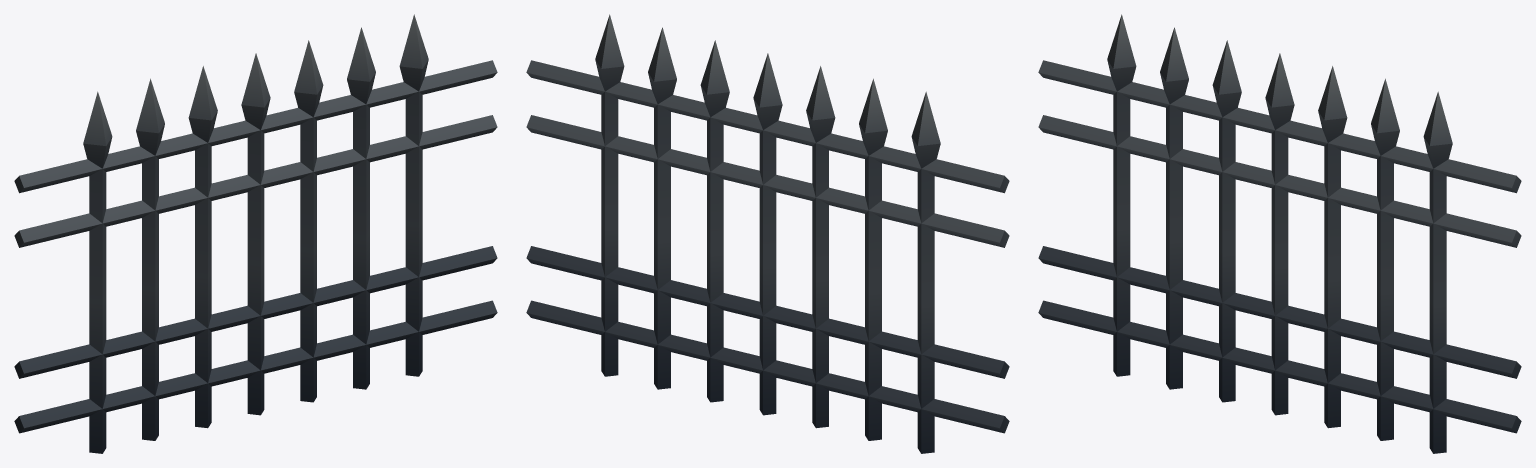
File: Fence_Iron_01.fbx
3 views of the same model, side by side, from view 1: azimuth 30°, elevation 25°; view 2: azimuth 150°, elevation 25°; view 3: azimuth 330°, elevation 25° (orthographic).
Parts seen in each view (by area): view 1: Fence_Iron_01; view 2: Fence_Iron_01; view 3: Fence_Iron_01.
Boxes of the visible parts, x1=… form: Fence_Iron_01: x1=14, y1=14, x2=497, y2=453; Fence_Iron_01: x1=526, y1=14, x2=1009, y2=453; Fence_Iron_01: x1=1038, y1=14, x2=1521, y2=453.
Size of the model in its own units: 400 by 290 by 24.74.
